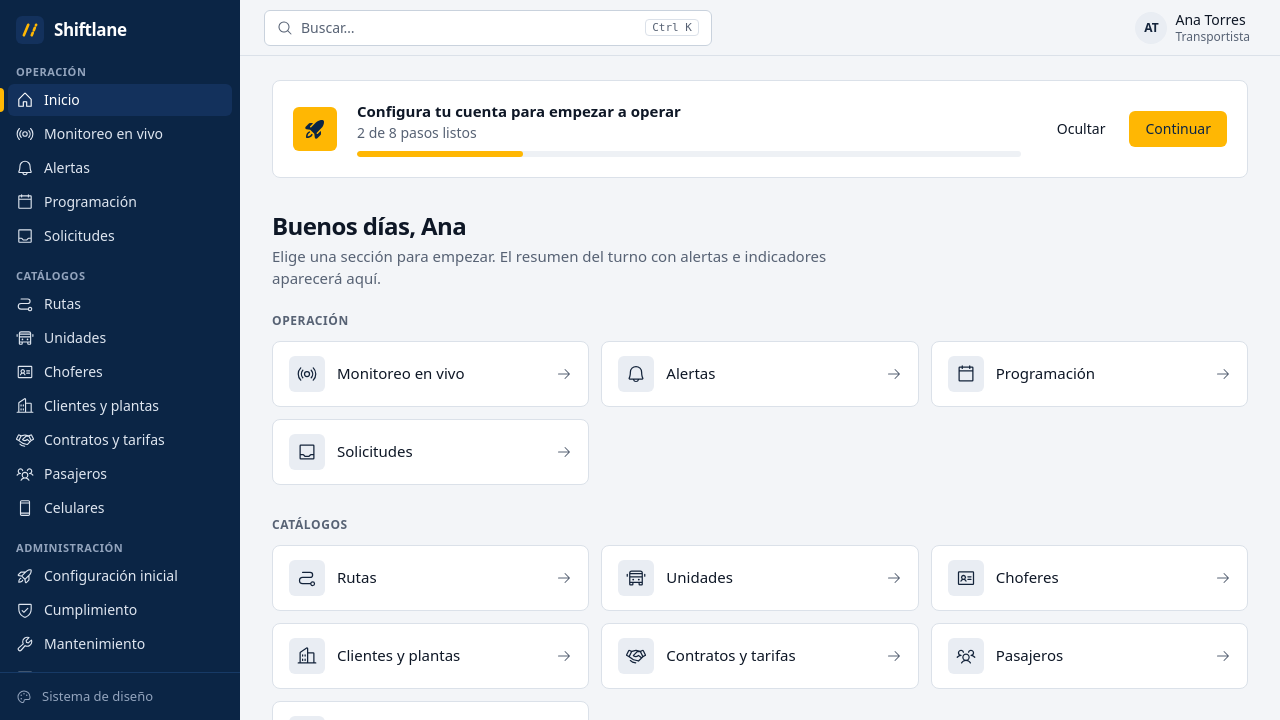
asistente de configuración inicial › el inicio muestra cuánto falta y se puede ocultar
Expected: the text "Configura tu cuenta para empezar a operar" is shown, [357,101,681,121]
Expected: the text "2 de 8 pasos listos" is shown, [357,123,477,142]
Click the button "Ocultar". click: (1081, 129)
box: [1041,111,1121,147]
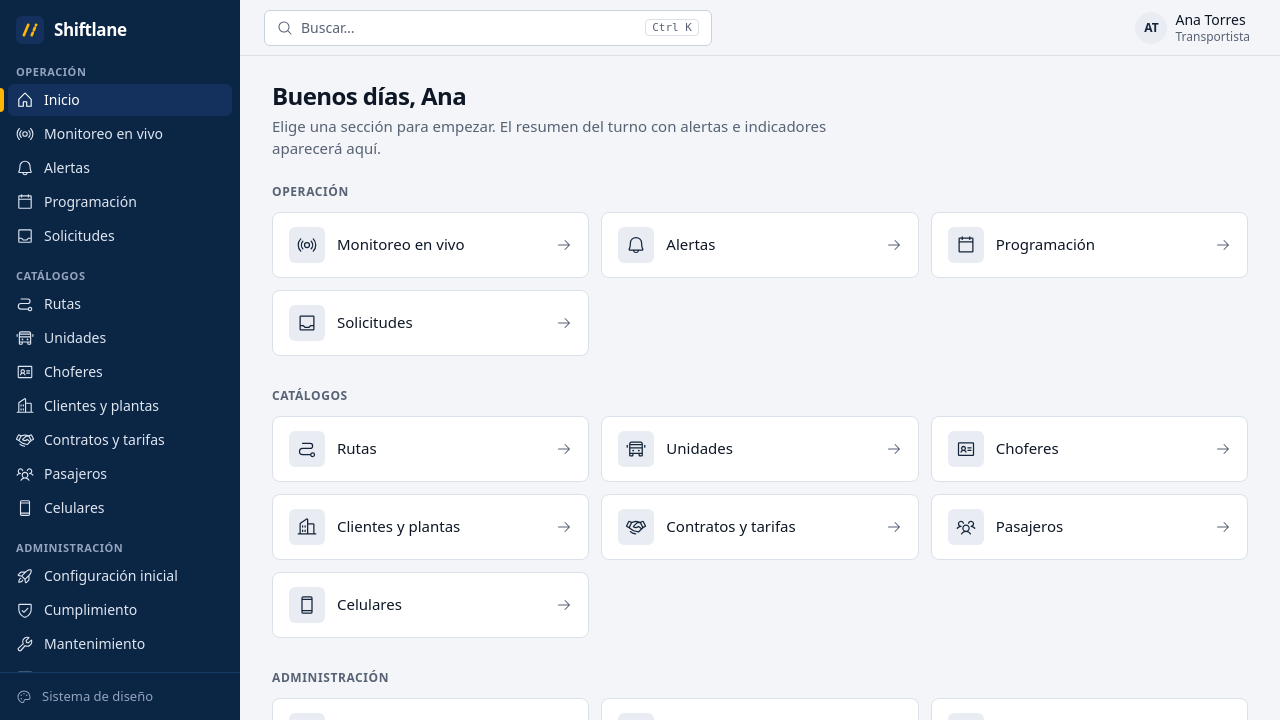
Expected: the text "Configura tu cuenta para empezar a operar" is gone
